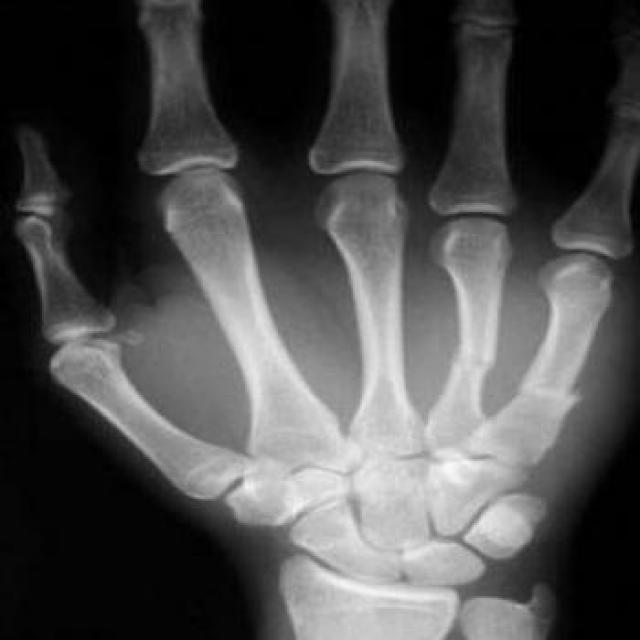fracture: (507, 371, 599, 413), (439, 343, 510, 379)
